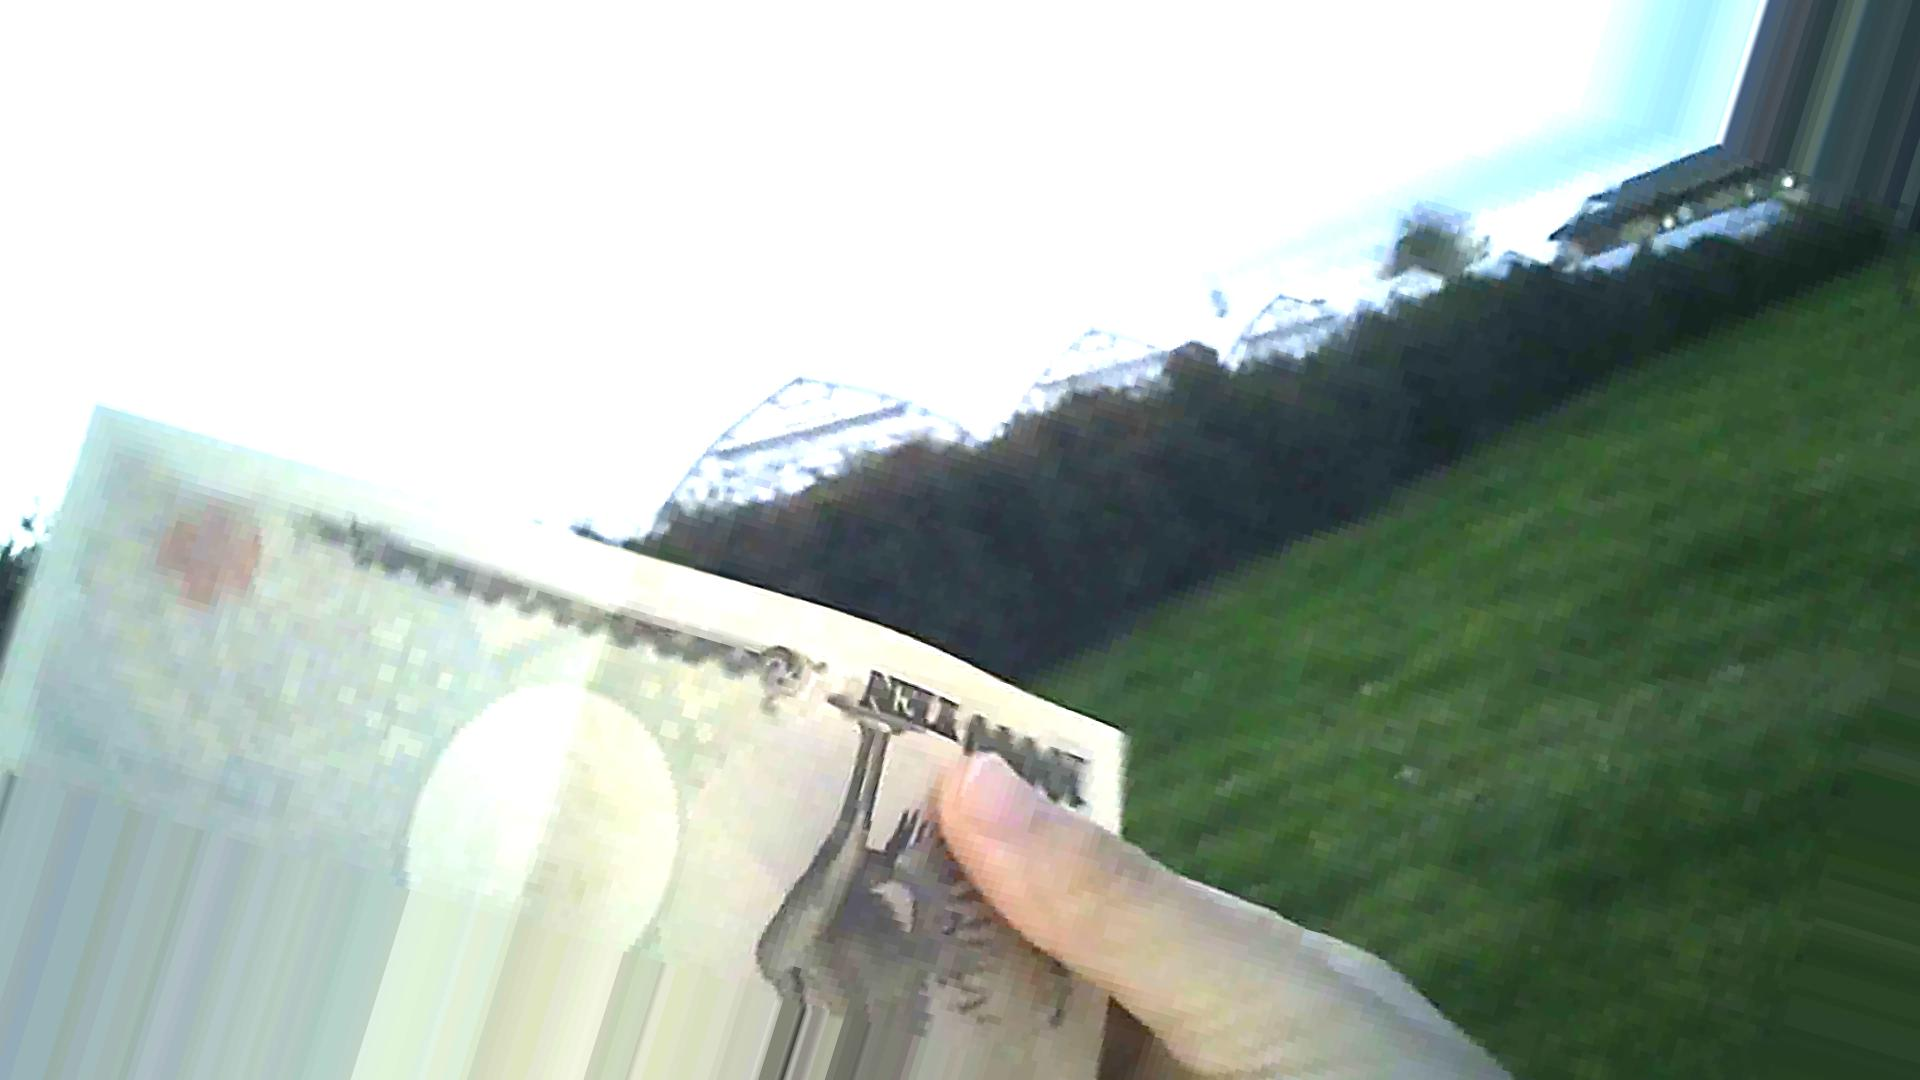10,000 Yen: (40, 388, 1141, 1029)
